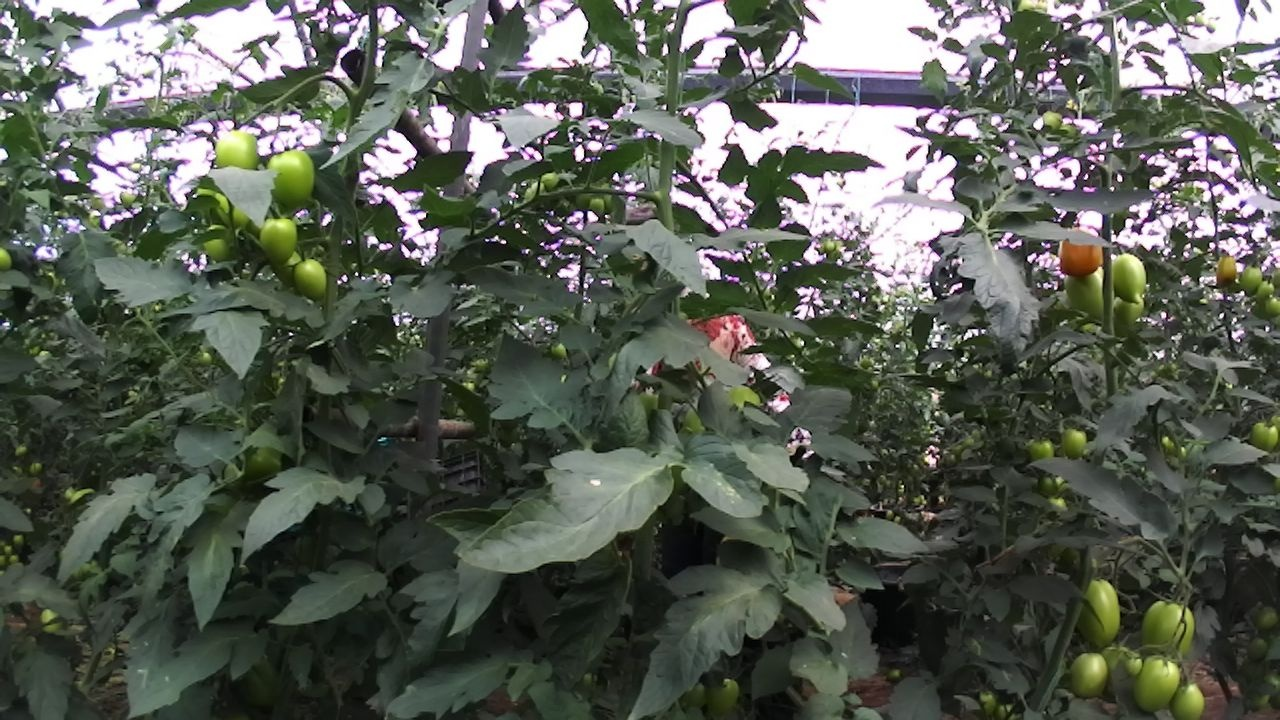tomato: (1069, 574, 1132, 654), (1136, 594, 1197, 668), (258, 144, 320, 212), (1128, 649, 1185, 715), (1057, 263, 1118, 323), (207, 120, 265, 175), (1053, 226, 1107, 281), (284, 252, 341, 304), (1063, 648, 1116, 703), (255, 213, 303, 272), (1104, 249, 1150, 307), (193, 219, 238, 268), (1165, 679, 1213, 720), (702, 673, 743, 720), (1018, 432, 1061, 471), (1111, 291, 1148, 329), (1246, 414, 1280, 455), (1057, 423, 1092, 462), (1237, 261, 1264, 301), (1212, 253, 1242, 288), (1037, 106, 1068, 136), (1252, 276, 1276, 304), (587, 197, 608, 215)
